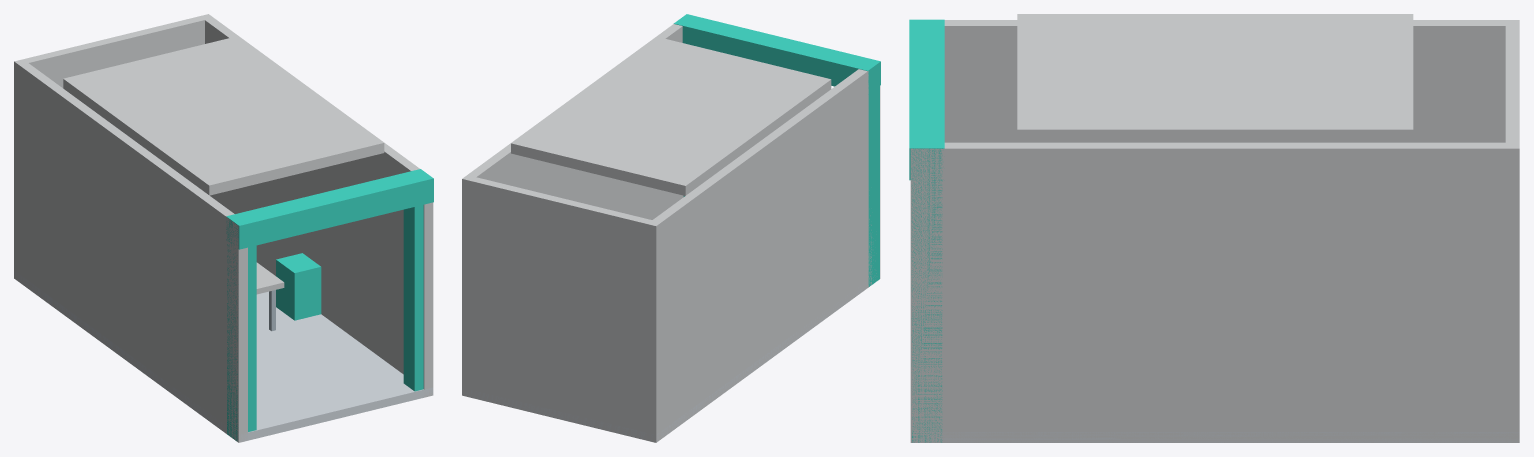
The picture shows the model from 3 angles, left to right: view 1: azimuth 30°, elevation 25°; view 2: azimuth 150°, elevation 25°; view 3: azimuth 270°, elevation 25°; orthographic projection. The views are drawn at different scales.
Parts seen in each view (by area): view 1: Exhibition Booth Concept; view 2: Exhibition Booth Concept; view 3: Exhibition Booth Concept.
Boxes of the visible parts, <box> form: Exhibition Booth Concept: <box>14,14,433,442</box>; Exhibition Booth Concept: <box>462,14,880,442</box>; Exhibition Booth Concept: <box>909,14,1519,442</box>.
Size of the model in its own units: 3 by 3.34 by 6.02.
